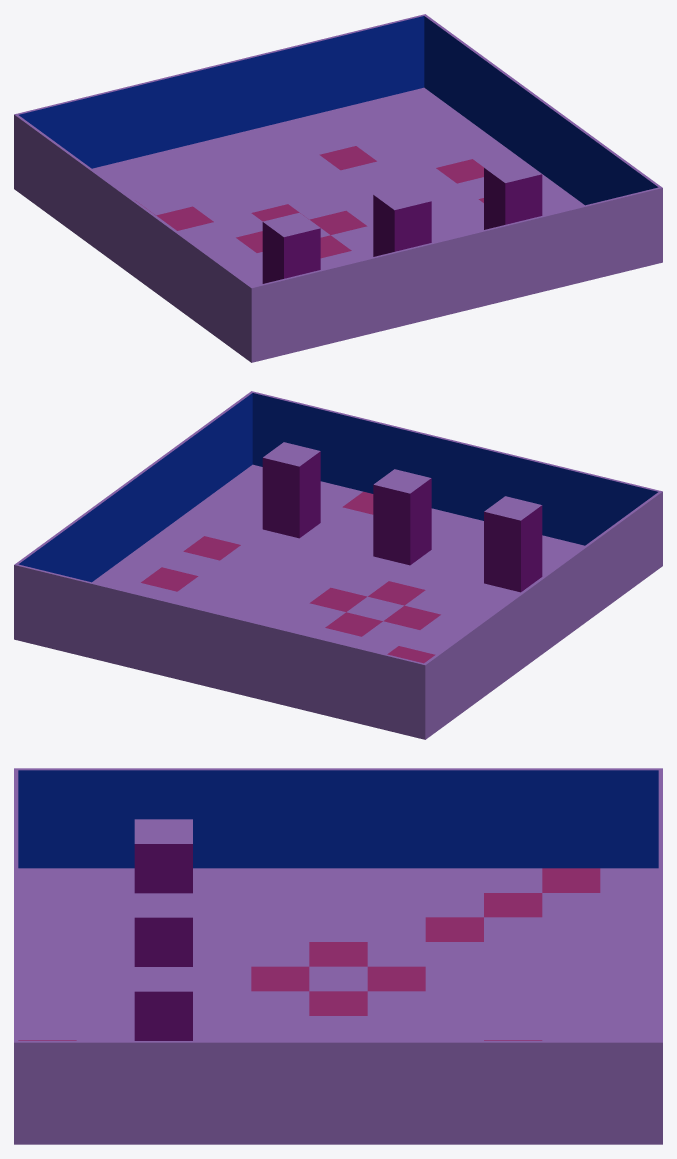
File: test_location.glb
3 renders of one model, top to bottom at view 1: azimuth 30°, elevation 25°; view 2: azimuth 150°, elevation 25°; view 3: azimuth 270°, elevation 25°, orthographic. The views are drawn at different scales.
Parts seen in each view (by area): view 1: Plane; view 2: Plane; view 3: Plane.
Part boxes in pixels (x1=…): Plane: x1=14, y1=14, x2=662, y2=362; Plane: x1=14, y1=391, x2=662, y2=739; Plane: x1=14, y1=768, x2=662, y2=1144.
Bounding box in the file's own units: 30 × 5.2 × 30.
